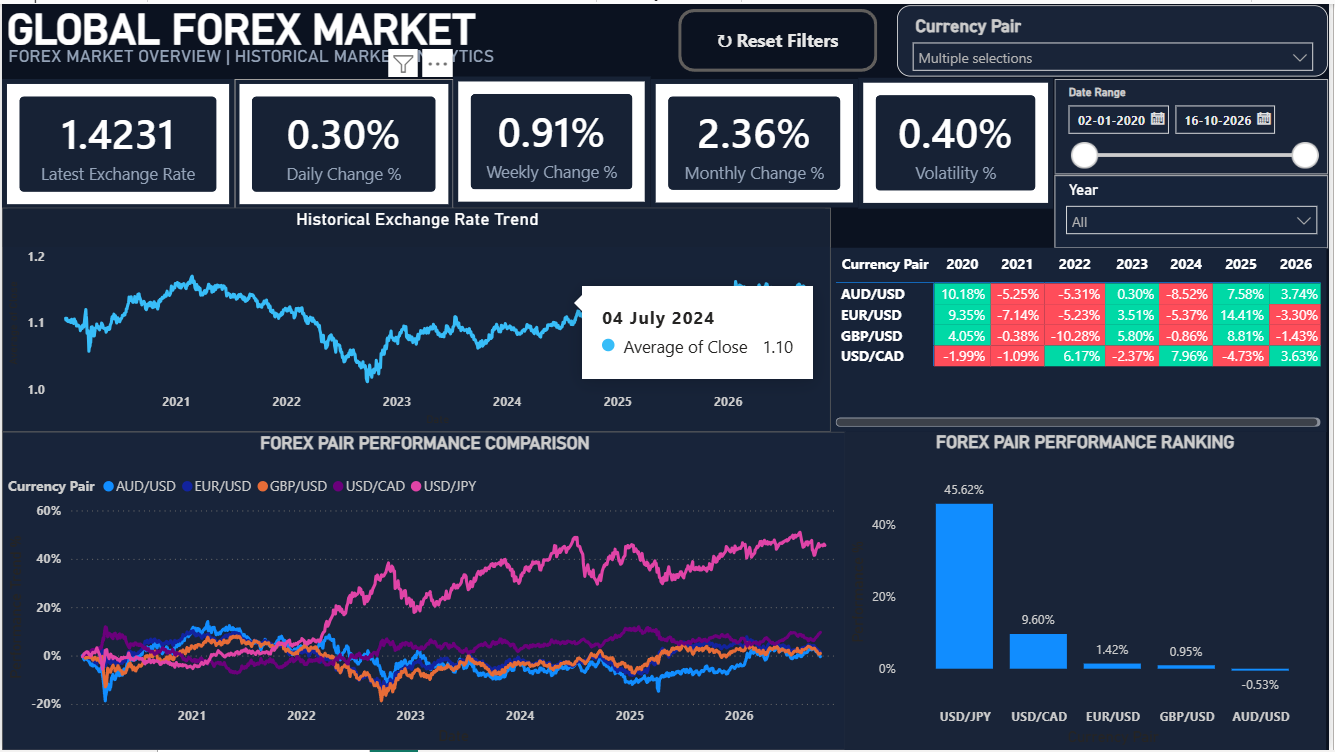

Layout of this report page (visuals, bound fields, positions):
{"tool":"powerbi","page":{"name":"Forex Market Overview.","canvas":[1280,720],"ordinal":0},"visuals":[{"type":"textbox","title":"   GLOBAL FOREX MARKET ","box":[0,0,1280,48.3],"z":0},{"type":"textbox","title":"    FOREX MARKET OVERVIEW  |  HISTORICAL MARKET ANALYTICS","box":[1.4,40.4,1278.3,28.9],"z":1000},{"type":"slicer","fields":{"Values":["Forex_Master_Data.Currency Pair"]},"box":[863.8,1.2,416.2,68.8],"z":2000},{"type":"cardVisual","fields":{"Data":["AUD_USD.Latest Exchange Rate"]},"box":[0,72.4,224.4,126.7],"z":3000},{"type":"cardVisual","fields":{"Data":["AUD_USD.Daily Change %"]},"box":[224.4,72.4,211.1,126.7],"z":4000},{"type":"cardVisual","fields":{"Data":["AUD_USD.Weekly Change %"]},"box":[435.5,70,190.6,126.7],"z":5000},{"type":"cardVisual","fields":{"Data":["AUD_USD.Monthly Change %"]},"box":[626.1,72.4,200.3,124.3],"z":6000},{"type":"lineChart","title":"Historical Exchange Rate Trend","fields":{"Category":["Forex_Master_Data.Date"],"Y":["Avg(Forex_Master_Data.Close)"]},"box":[0,196.4,800.2,216.7],"z":7000},{"type":"lineChart","title":"FOREX PAIR PERFORMANCE COMPARISON","fields":{"Category":["Forex_Master_Data.Date"],"Series":["Forex_Master_Data.Currency Pair"],"Y":["AUD_USD.Performance Trend %"]},"box":[0,413.1,814.6,307.7],"z":8000},{"type":"cardVisual","fields":{"Data":["AUD_USD.Volatility %"]},"box":[826.4,71.2,188.2,126.7],"z":9000},{"type":"clusteredColumnChart","title":"FOREX PAIR PERFORMANCE RANKING","fields":{"Category":["Forex_Master_Data.Currency Pair"],"Y":["AUD_USD.Performance %"]},"box":[813.1,412.6,464.5,307.6],"z":10000},{"type":"slicer","fields":{"Values":["Forex_Master_Data.Date"]},"box":[1015.8,72.4,264.2,91.7],"z":11000},{"type":"actionButton","box":[653.2,5.3,192.2,60.5],"z":12000},{"type":"slicer","fields":{"Values":["Forex_Master_Data.Date.Variation.Date Hierarchy.Year"]},"box":[1015.8,165.3,264,70.7],"z":13000},{"type":"pivotTable","fields":{"Columns":["Forex_Master_Data.Date.Variation.Date Hierarchy.Year","Forex_Master_Data.Date.Variation.Date Hierarchy.Month"],"Rows":["Forex_Master_Data.Currency Pair"],"Values":["AUD_USD.Monthly Performance %"]},"box":[800.2,235.4,478.1,177.7],"z":14000}]}

Visuals, with their boxes in screenshot pixels (x1, y1, x2, y2), scaled from the page's 1280x720 canvas onto the 1335x752 screenshot:
"   GLOBAL FOREX MARKET " textbox: box=[0, 0, 1334, 50]
"    FOREX MARKET OVERVIEW  |  HISTORICAL MARKET ANALYTICS" textbox: box=[1, 42, 1334, 72]
slicer - Forex_Master_Data.Currency Pair: box=[901, 1, 1334, 73]
cardVisual - AUD_USD.Latest Exchange Rate: box=[0, 76, 234, 208]
cardVisual - AUD_USD.Daily Change %: box=[234, 76, 454, 208]
cardVisual - AUD_USD.Weekly Change %: box=[454, 73, 653, 205]
cardVisual - AUD_USD.Monthly Change %: box=[653, 76, 862, 205]
"Historical Exchange Rate Trend" lineChart: box=[0, 205, 835, 431]
"FOREX PAIR PERFORMANCE COMPARISON" lineChart: box=[0, 431, 850, 751]
cardVisual - AUD_USD.Volatility %: box=[862, 74, 1058, 207]
"FOREX PAIR PERFORMANCE RANKING" clusteredColumnChart: box=[848, 431, 1332, 751]
slicer - Forex_Master_Data.Date: box=[1059, 76, 1334, 171]
actionButton: box=[681, 6, 882, 69]
slicer - Forex_Master_Data.Date.Variation.Date Hierarchy.Year: box=[1059, 173, 1334, 246]
pivotTable - Forex_Master_Data.Date.Variation.Date Hierarchy.Year x Forex_Master_Data.Date.Variation.Date Hierarchy.Month: box=[835, 246, 1333, 431]
